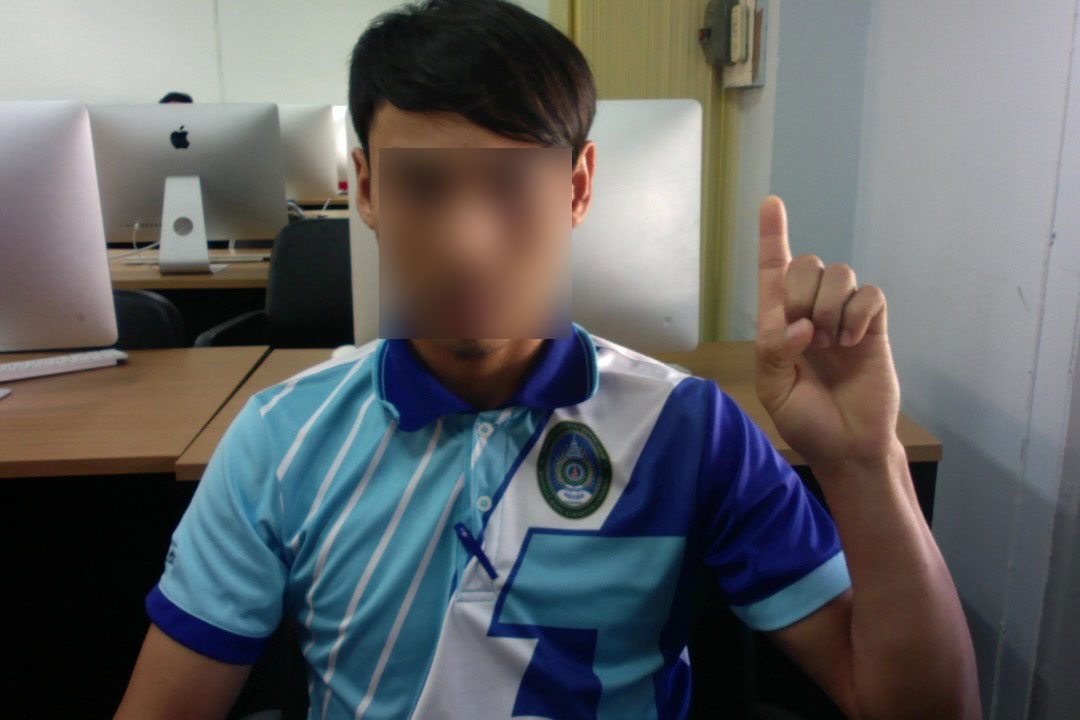dor: (753, 182, 910, 479)
